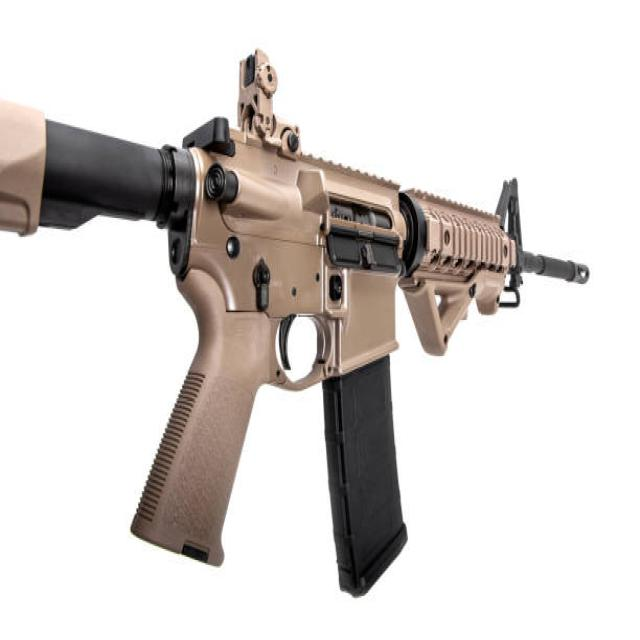rifle: (4, 38, 597, 597)
